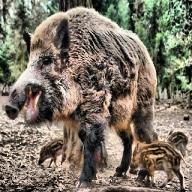boar: (3, 6, 158, 188)
